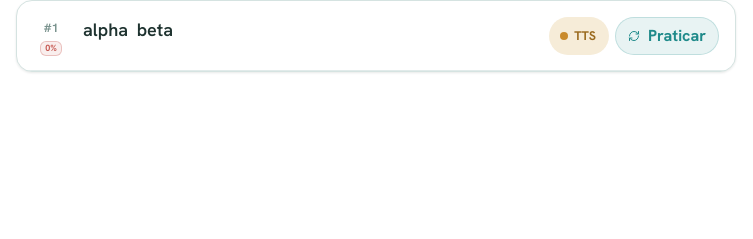
Test: EntryCard — cache do lookup de palavra › palavras distintas consultam uma vez cada
Click the text titled "Clique para ouvir e ver": (106, 30) [81,18,130,41]
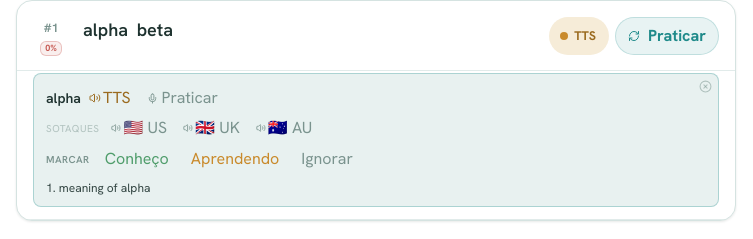
Expected: the list item "meaning of alpha" is shown, [59,180,150,196]
Click the text titled "Clique para ouvir e ver": (155, 30) [135,18,175,41]
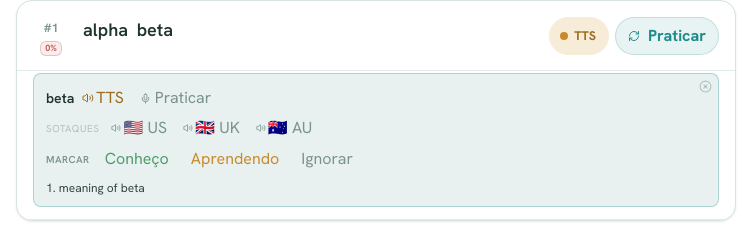
Expected: the list item "meaning of beta" is shown, [59,180,145,196]
